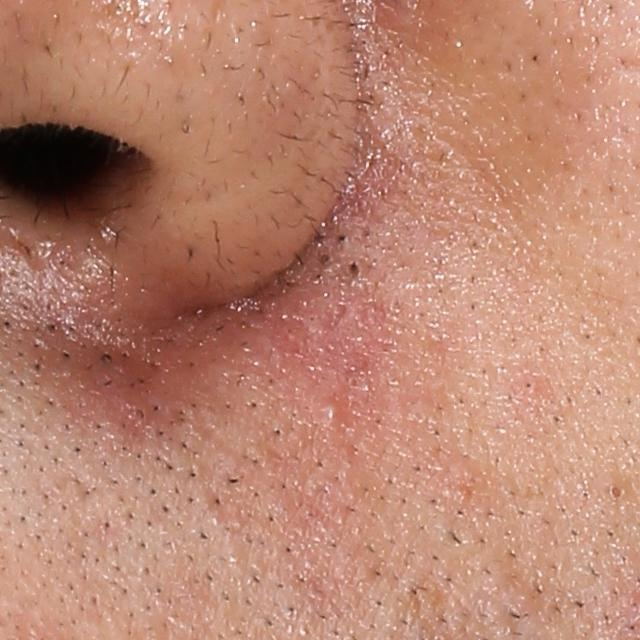comedo: (337, 255, 370, 281)
pustule: (313, 396, 351, 427)
